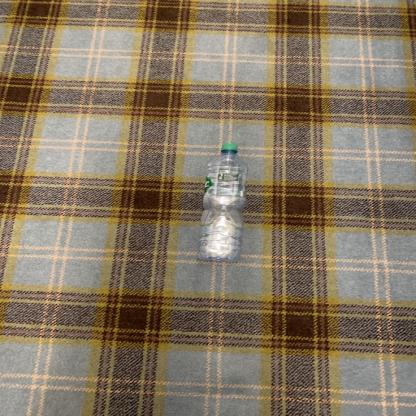trash: (198, 143, 248, 261)
